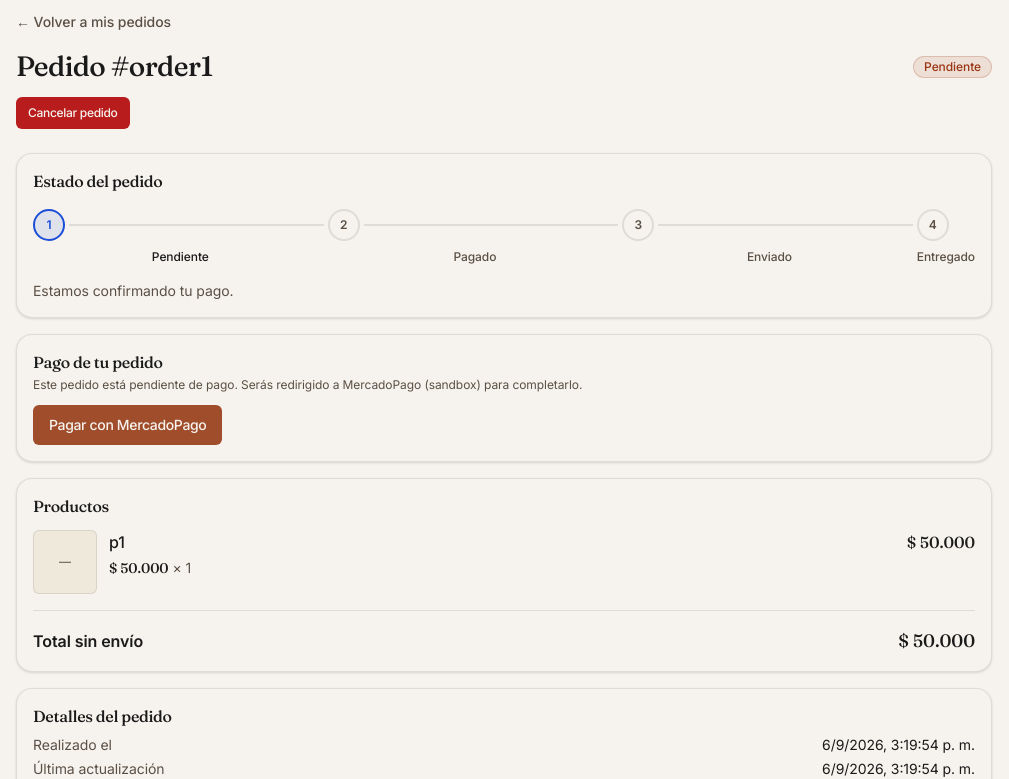
OrderDetailPage › refresca el pedido cuando la cancelación falla por un conflicto de estado
Step 1. Click the button "Cancelar pedido" → (73, 113), box [16,97,130,129]
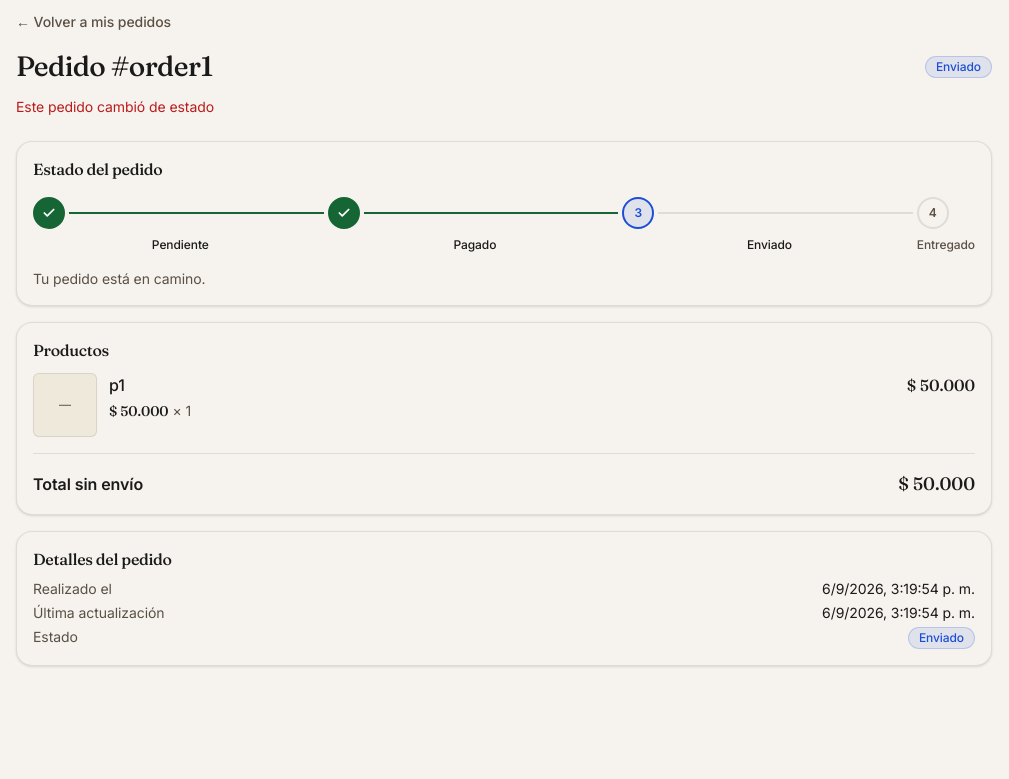
Expected: the text "Este pedido cambió de estado" is shown, [16,97,214,117]
Expected: the button "Cancelar pedido" is gone
